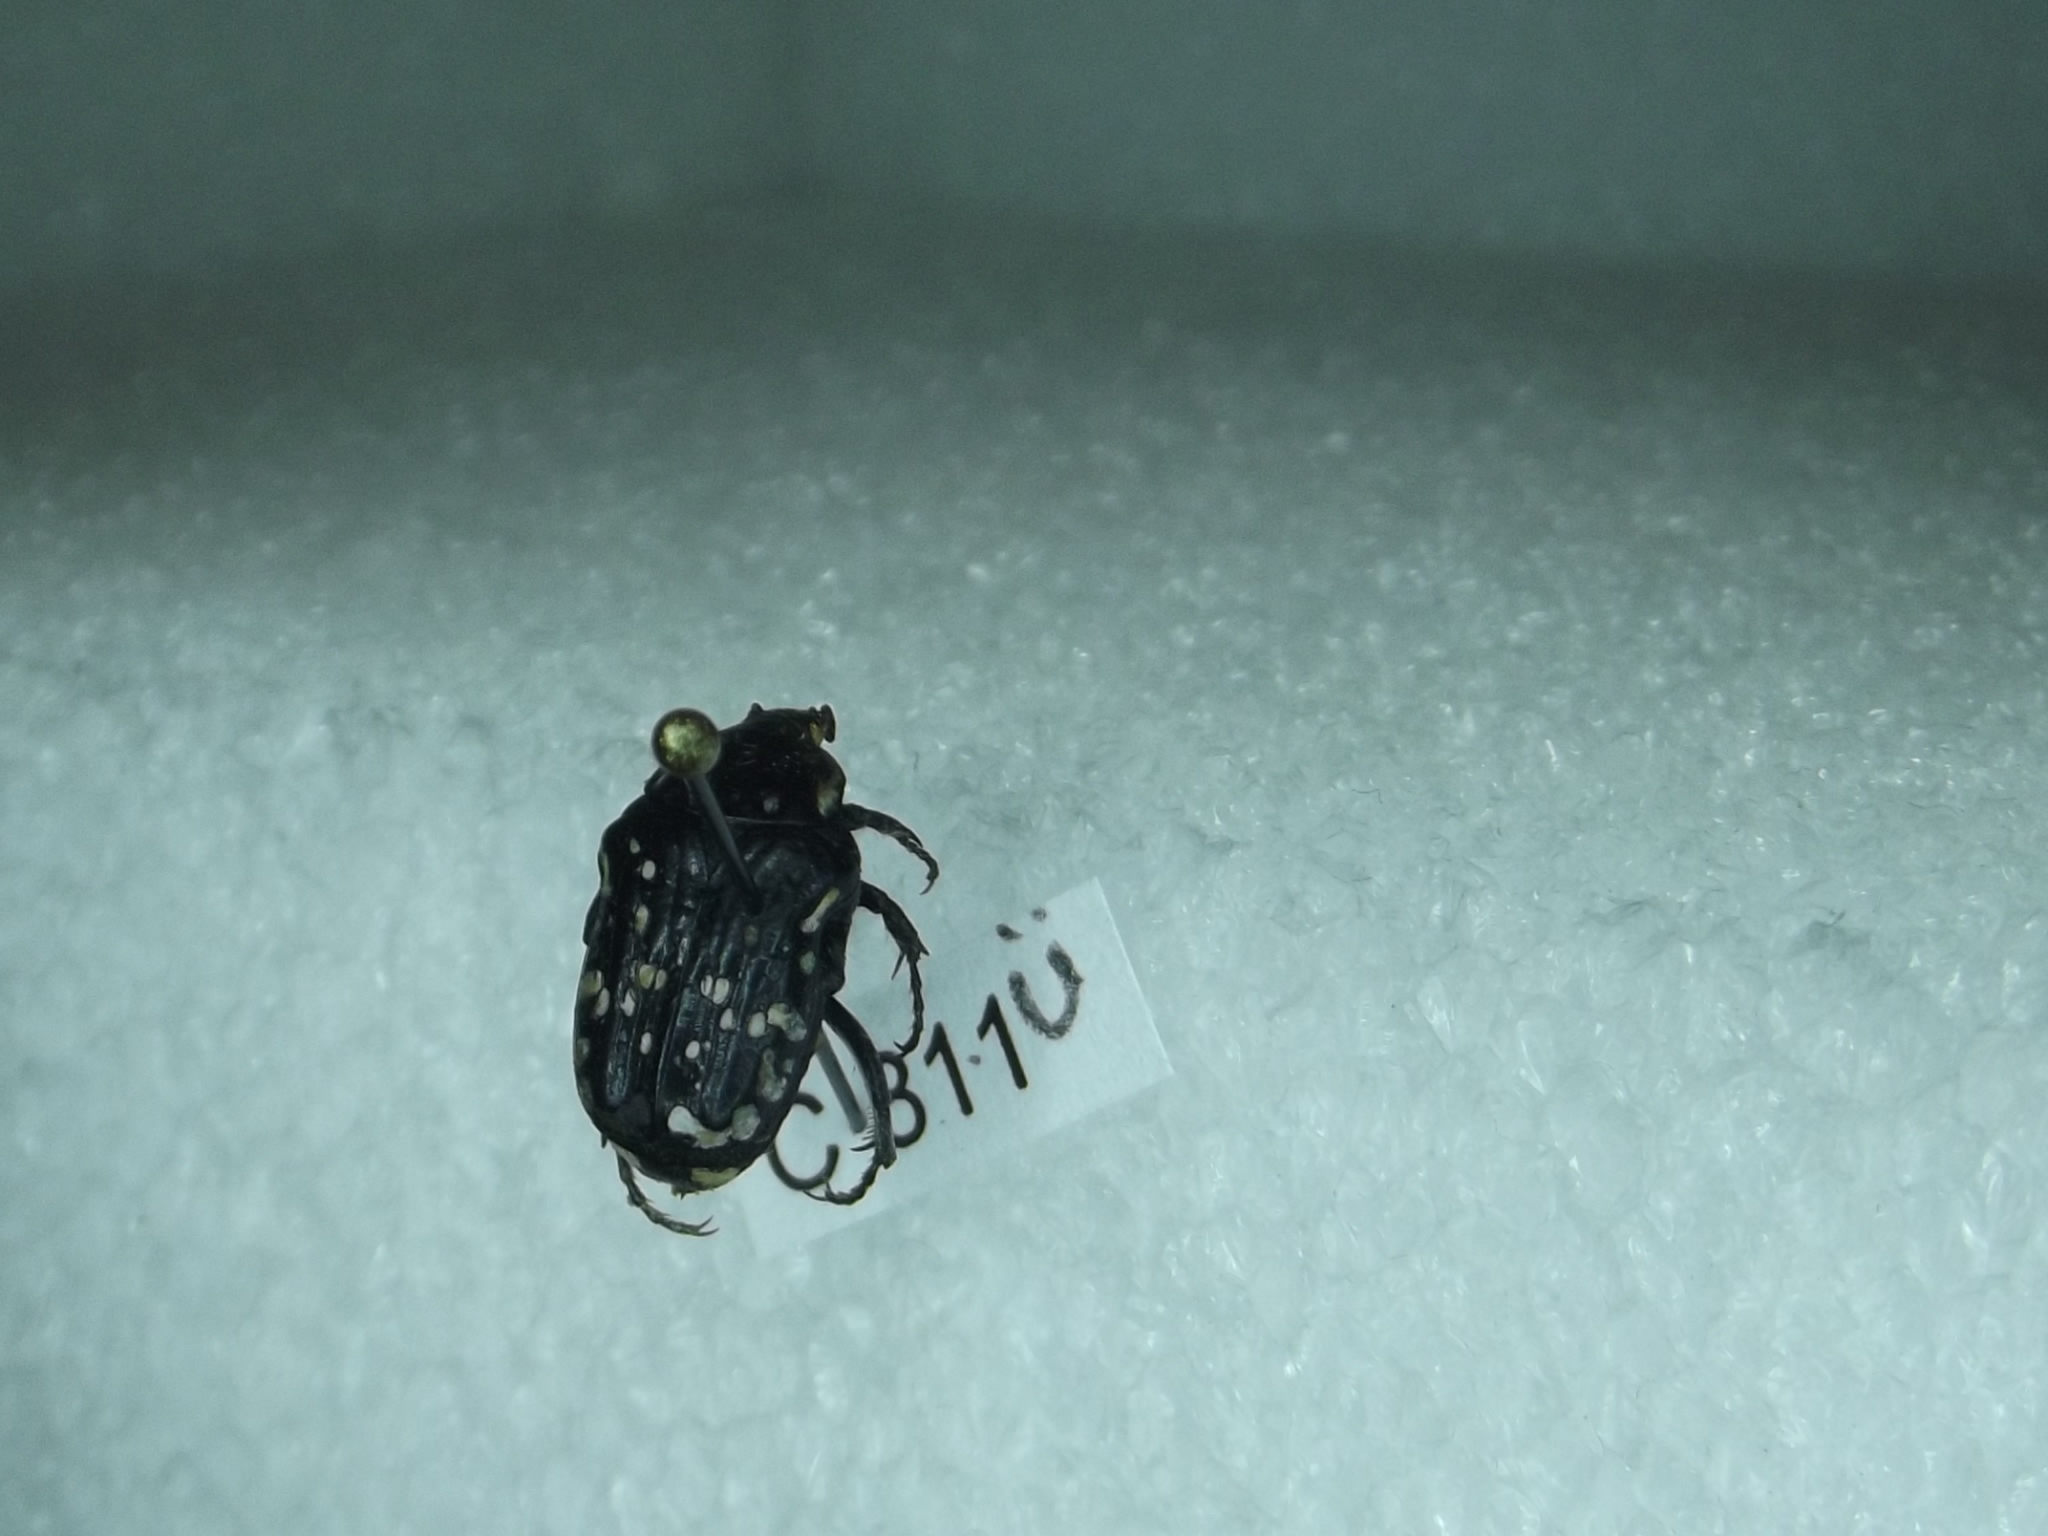Oxythyrea_albopicta: (550, 674, 953, 1241)
